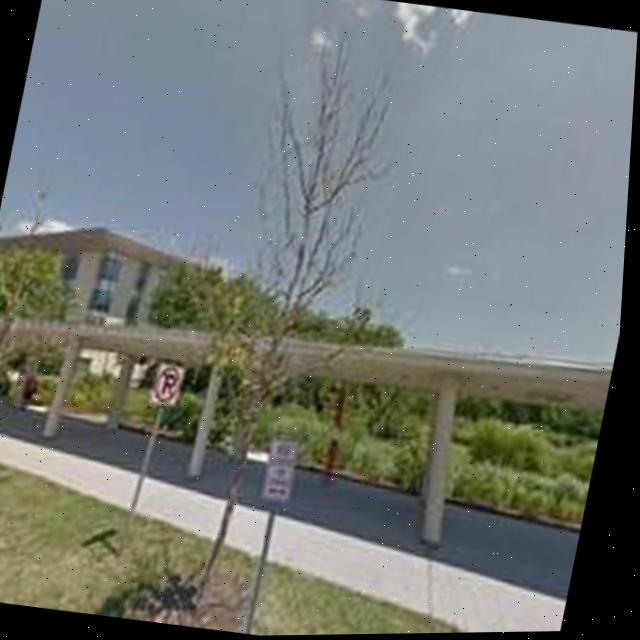building: (0, 205, 627, 586)
